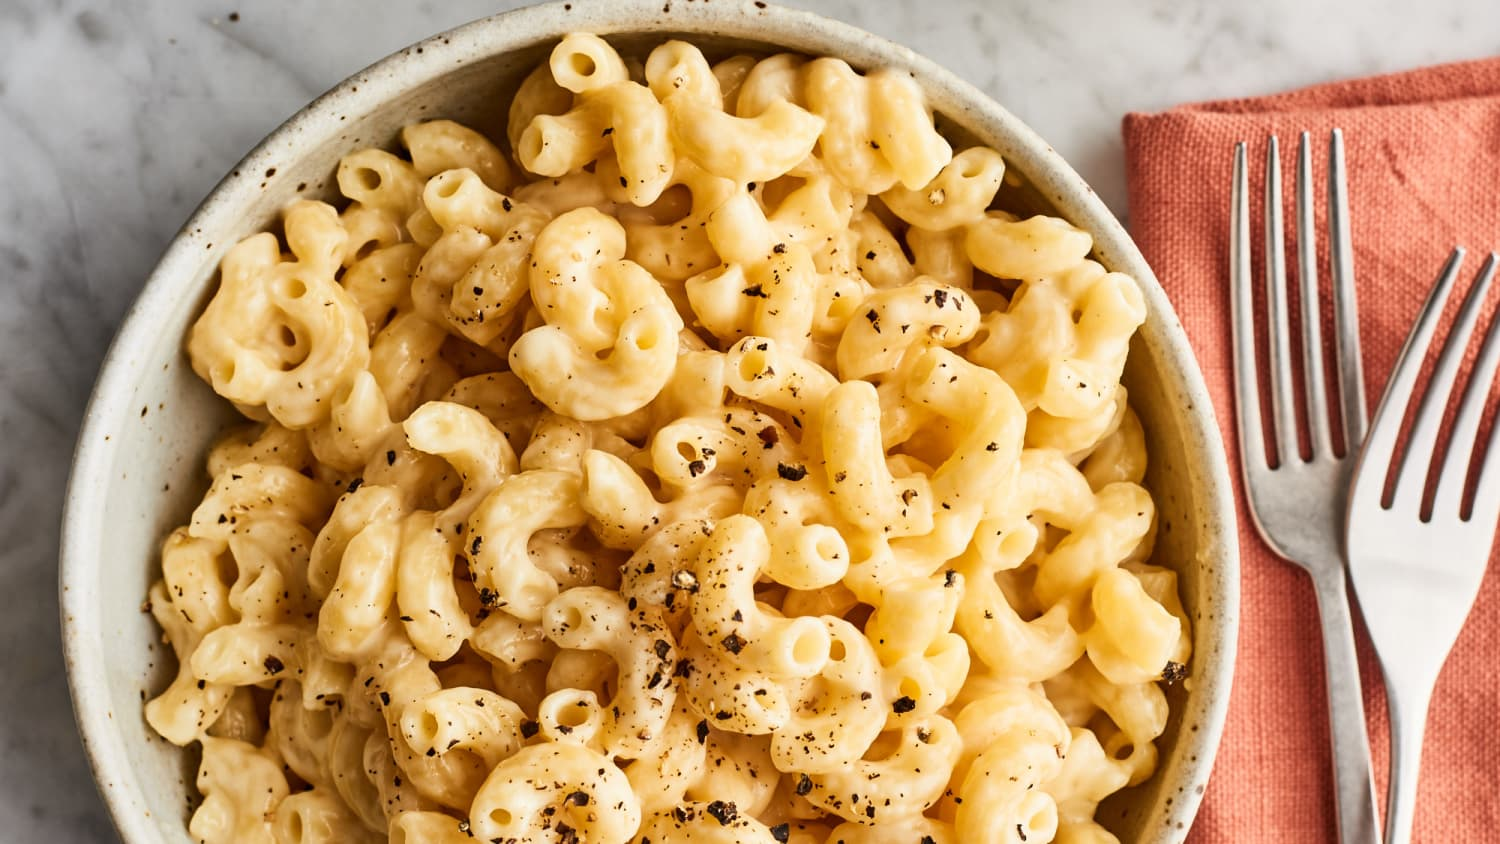cheese: (364, 224, 905, 578)
